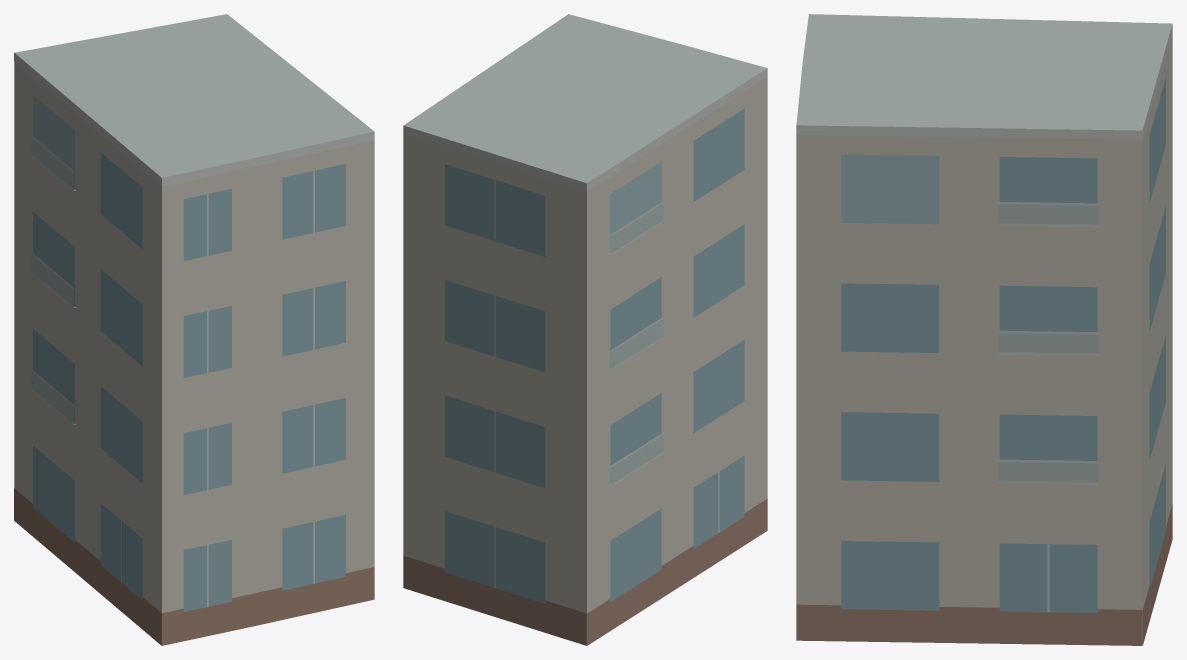
Rendered from survey-upis-32470876.glb.
The picture shows the model from 3 angles, left to right: view 1: azimuth 30°, elevation 25°; view 2: azimuth 150°, elevation 25°; view 3: azimuth 270°, elevation 25°; orthographic projection. The views are drawn at different scales.
Parts seen in each view (by area): view 1: survey-upis-32470876.tmp; view 2: survey-upis-32470876.tmp; view 3: survey-upis-32470876.tmp.
Boxes of the visible parts, <box> form: survey-upis-32470876.tmp: <box>14,14,374,645</box>; survey-upis-32470876.tmp: <box>403,14,767,645</box>; survey-upis-32470876.tmp: <box>796,14,1172,645</box>.
Size of the model in its own units: 6.44 by 13.25 by 8.78.
